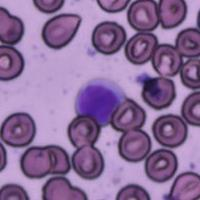L: (74, 77, 125, 126)
